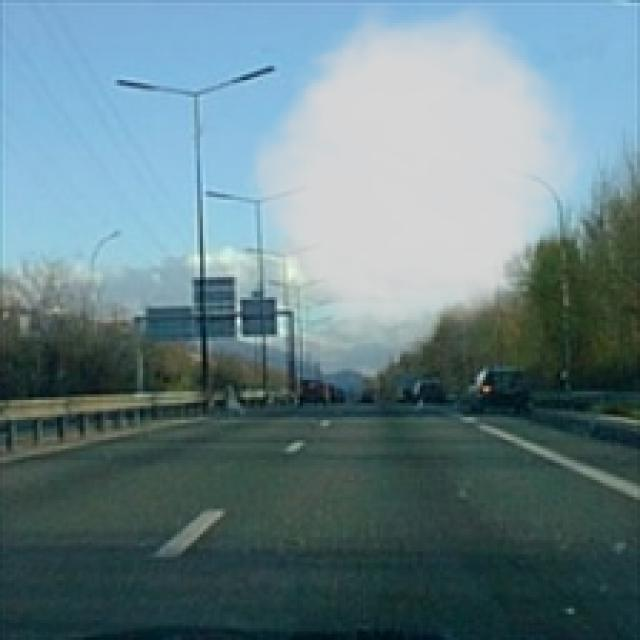smoke: (234, 3, 597, 348)
